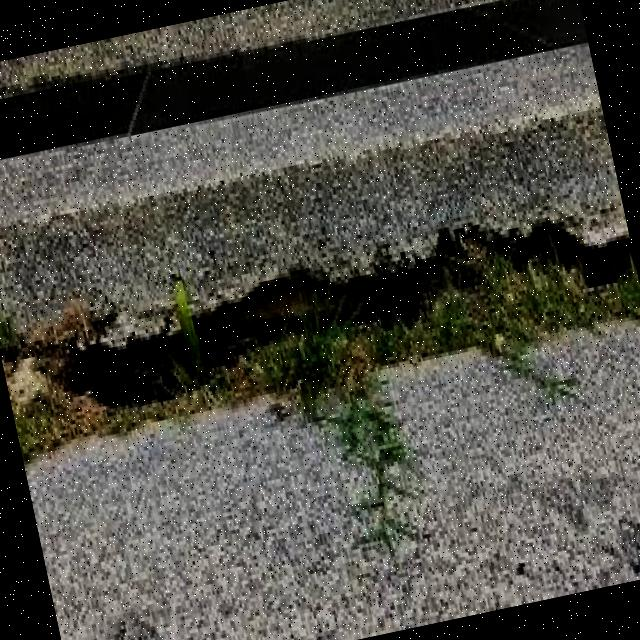curb: (1, 43, 640, 447)
